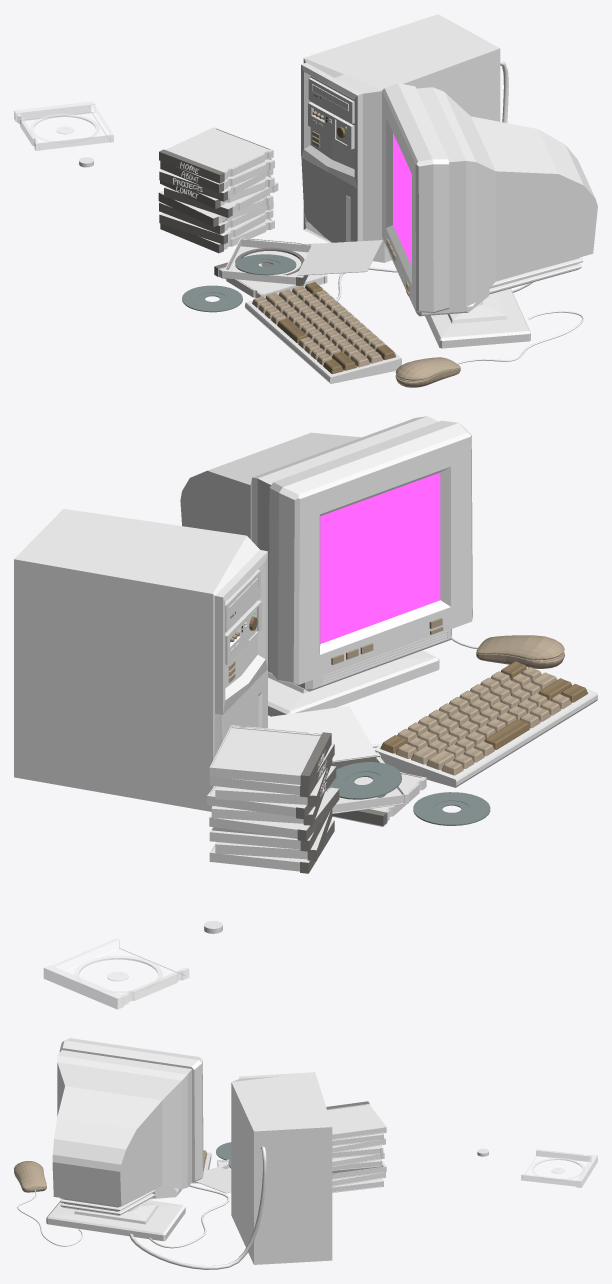
Rendered from scenev2.gltf.
3 views of the same model, one above another, from view 1: azimuth 30°, elevation 25°; view 2: azimuth 150°, elevation 25°; view 3: azimuth 270°, elevation 25° (orthographic). The views are drawn at different scales.
Visible parts, largest first — view 1: Cube002, Plane017, med_key003, Plane037_1, Plane001_1, Plane001, Plane007, Plane005, plane_base, Plane022, Cube002_1, mouse (+11 smaller); view 2: Plane017, Cube002, Cube002_1, med_key003, Plane001, Plane037_1, Plane007, plane_base, Plane005, mouse, Circle, Circle005 (+8 smaller); view 3: Cube002, Plane017, Plane001, Plane037_1, Plane007, BezierCurve002, mouse, Plane005, BezierCurve001, Plane030, Plane036_1, Plane031.
Boxes of the visible parts, x1,y1,x2,y2 form: Cube002: [382, 83, 597, 348]; Plane017: [301, 14, 500, 262]; med_key003: [252, 285, 384, 367]; Plane037_1: [165, 127, 273, 179]; Plane001_1: [158, 188, 232, 253]; Plane001: [159, 182, 278, 249]; Plane007: [14, 101, 113, 150]; Plane005: [297, 240, 382, 275]; plane_base: [245, 283, 401, 383]; Plane022: [224, 237, 317, 284]; Cube002_1: [393, 133, 411, 265]; mouse: [395, 357, 460, 387]; Plane017: [14, 509, 267, 811]; Cube002: [180, 416, 472, 716]; Cube002_1: [320, 472, 440, 643]; med_key003: [395, 667, 571, 775]; Plane001: [209, 787, 338, 871]; Plane037_1: [209, 725, 321, 784]; Plane007: [43, 938, 189, 1009]; plane_base: [374, 667, 597, 787]; Plane005: [268, 706, 377, 761]; mouse: [476, 635, 564, 668]; Circle: [413, 792, 490, 825]; Circle005: [328, 762, 401, 799]; Cube002: [46, 1038, 203, 1241]; Plane017: [231, 1072, 332, 1264]; Plane001: [332, 1152, 386, 1192]; Plane037_1: [327, 1103, 386, 1139]; Plane007: [521, 1149, 597, 1187]; BezierCurve002: [129, 1146, 266, 1269]; mouse: [14, 1161, 46, 1192]; Plane005: [195, 1167, 231, 1193]; BezierCurve001: [148, 1185, 229, 1248]; Plane030: [332, 1145, 383, 1158]; Plane036_1: [332, 1133, 383, 1146]; Plane031: [332, 1137, 385, 1153].
Bounding box in the file's own units: 4.65 × 2.57 × 8.87.
Materials: 15 (4 with a texture image).
